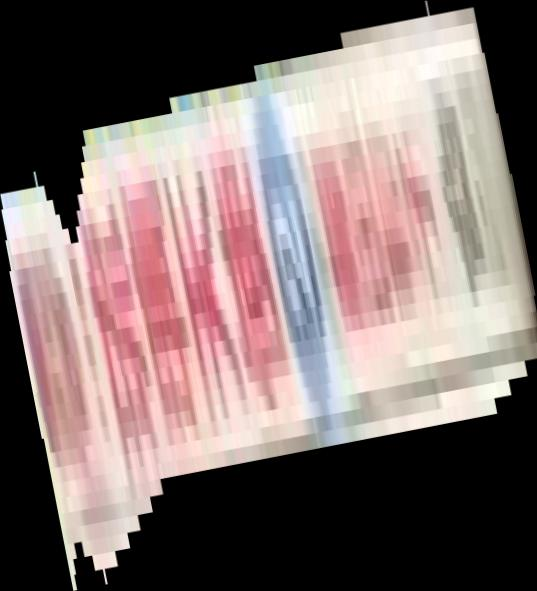flat: (1, 1, 537, 591)
